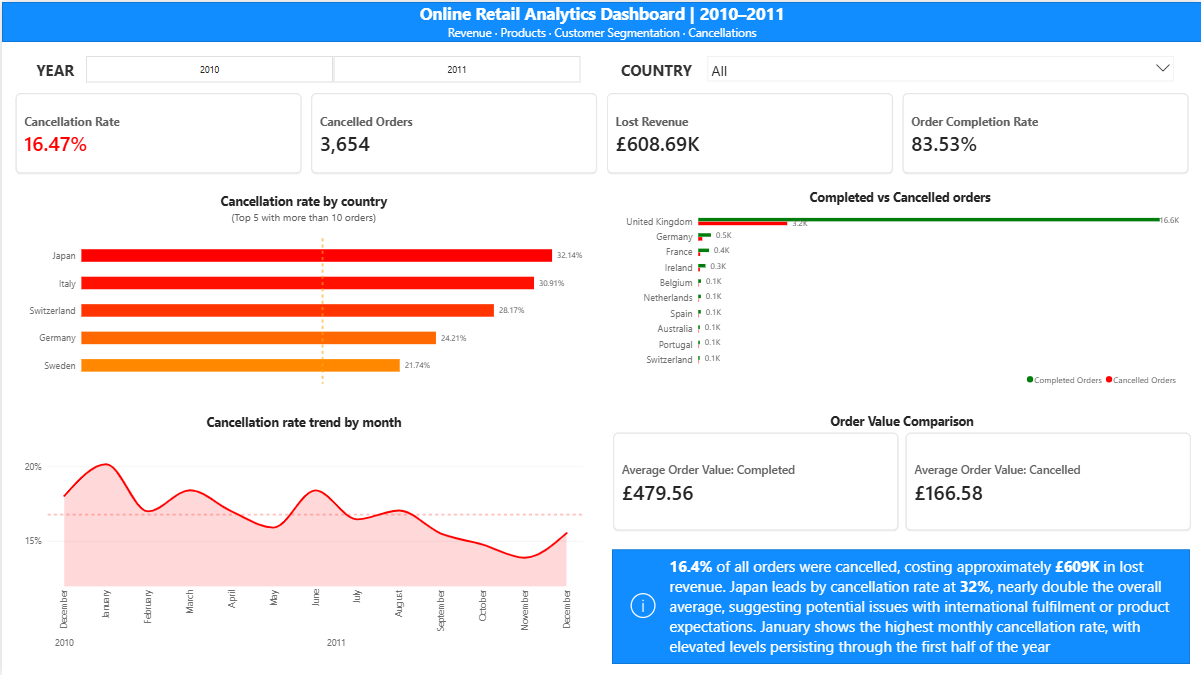

The dashboard page shown, as its layout file describes it:
{"tool":"powerbi","page":{"name":"Cancellation Analysis","canvas":[1920,1080],"ordinal":3},"visuals":[{"type":"shape","box":[0,0,1920,64],"z":0},{"type":"shape","box":[19.6,74.2,1880.2,65.2],"z":0,"group":"g2"},{"type":"shape","box":[976.5,876.2,924.6,183.3],"z":0,"group":"g1"},{"type":"slicer","fields":{"Values":["OnlineRetail.Year"]},"box":[109.7,81.4,838,52],"z":1000,"group":"g2"},{"type":"cardVisual","fields":{"Data":["_Measures.Cancellation Percentage","_Measures.Cancelled Orders","_Measures.Lost Revenue","_Measures.Order Completion Rate"]},"box":[19.9,143.1,1880.2,132.2],"z":1000},{"type":"textbox","box":[1068.9,876,835.6,184],"z":1000,"group":"g1"},{"type":"slicer","title":"Country:","fields":{"Values":["OnlineRetail.Country"]},"box":[1123.7,81.4,756,62],"z":2000,"group":"g2"},{"type":"barChart","title":"Cancellation rate by country","fields":{"Category":["OnlineRetail.Country"],"Y":["_Measures.Cancellation Percentage"]},"box":[19.9,289.8,925.6,336.9],"z":2000},{"type":"actionButton","box":[976,920,99.7,92],"z":2000,"group":"g1"},{"type":"textbox","box":[51.7,91.4,70,40],"z":3000,"group":"g2"},{"type":"clusteredBarChart","title":"Completed vs Cancelled orders","fields":{"Category":["OnlineRetail.Country"],"Y":["_Measures.Completed Orders","_Measures.Cancelled Orders"]},"box":[974.5,289.8,925.6,336.9],"z":3000},{"type":"textbox","box":[983.7,91.4,126,42],"z":4000,"group":"g2"},{"type":"lineChart","title":"Cancellation rate trend by month","fields":{"Category":["OnlineRetail.Year","OnlineRetail.Month Name"],"Y":["_Measures.Cancellation Percentage"]},"box":[20,644,926,416],"z":4000},{"type":"cardVisual","title":"Order Value Comparison","fields":{"Data":["_Measures.AOV Completed","_Measures.AOV Cancelled"]},"box":[976,656,928,192],"z":5000},{"type":"group","id":"g1","title":"Insight Box","box":[976,876,928,184],"z":6000},{"type":"group","id":"g2","title":"Slicer Bar","box":[19.6,74.2,1880.7,67.6],"z":7000},{"type":"textbox","box":[59.8,0,1800.5,63.4],"z":8000}]}

Visuals, with their boxes in screenshot pixels (x1, y1, x2, y2), scaled from the page's 1920x1080 canvas onto the 1201x675 screenshot:
shape: {"x1": 0, "y1": 0, "x2": 1200, "y2": 40}
shape: {"x1": 12, "y1": 46, "x2": 1188, "y2": 87}
shape: {"x1": 611, "y1": 548, "x2": 1189, "y2": 662}
slicer - OnlineRetail.Year: {"x1": 69, "y1": 51, "x2": 593, "y2": 83}
cardVisual - _Measures.Cancellation Percentage x _Measures.Cancelled Orders: {"x1": 12, "y1": 89, "x2": 1189, "y2": 172}
textbox: {"x1": 669, "y1": 548, "x2": 1191, "y2": 662}
"Country:" slicer: {"x1": 703, "y1": 51, "x2": 1176, "y2": 90}
"Cancellation rate by country" barChart: {"x1": 12, "y1": 181, "x2": 591, "y2": 392}
actionButton: {"x1": 611, "y1": 575, "x2": 673, "y2": 632}
textbox: {"x1": 32, "y1": 57, "x2": 76, "y2": 82}
"Completed vs Cancelled orders" clusteredBarChart: {"x1": 610, "y1": 181, "x2": 1189, "y2": 392}
textbox: {"x1": 615, "y1": 57, "x2": 694, "y2": 83}
"Cancellation rate trend by month" lineChart: {"x1": 13, "y1": 402, "x2": 592, "y2": 662}
"Order Value Comparison" cardVisual: {"x1": 611, "y1": 410, "x2": 1191, "y2": 530}
"Insight Box" group: {"x1": 611, "y1": 548, "x2": 1191, "y2": 662}
"Slicer Bar" group: {"x1": 12, "y1": 46, "x2": 1189, "y2": 89}
textbox: {"x1": 37, "y1": 0, "x2": 1164, "y2": 40}
